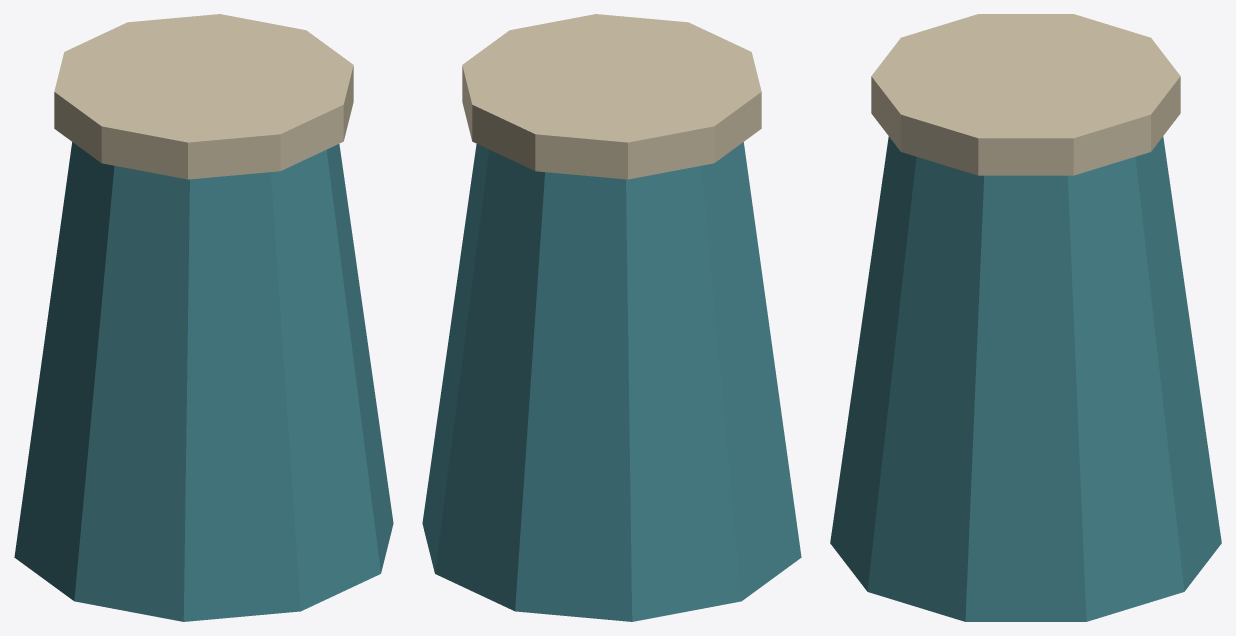
The model's file is water_jar.glb.
3 views of the same model, side by side, from view 1: azimuth 30°, elevation 25°; view 2: azimuth 150°, elevation 25°; view 3: azimuth 270°, elevation 25° (orthographic).
Visible parts, largest first — view 1: jar; view 2: jar; view 3: jar.
Part boxes in pixels (left/top/right/bottom): jar: left=14, top=14, right=393, bottom=621; jar: left=422, top=14, right=801, bottom=621; jar: left=830, top=14, right=1221, bottom=621.
Bounding box in the file's own units: 0.3614 × 0.5 × 0.38.
